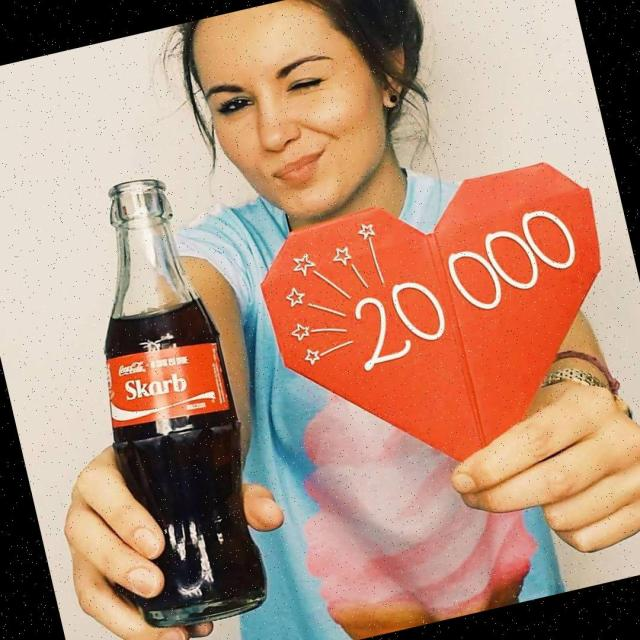coca-cola: (46, 167, 285, 635)
